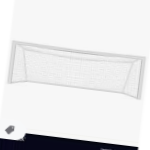goals: (6, 39, 147, 102)
